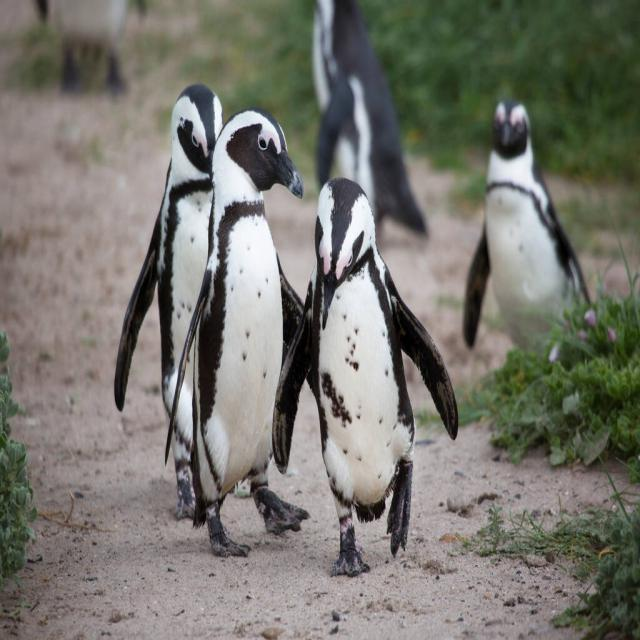Penguins: (300, 177, 456, 573), (196, 106, 305, 573), (148, 70, 223, 548), (476, 86, 594, 370)
